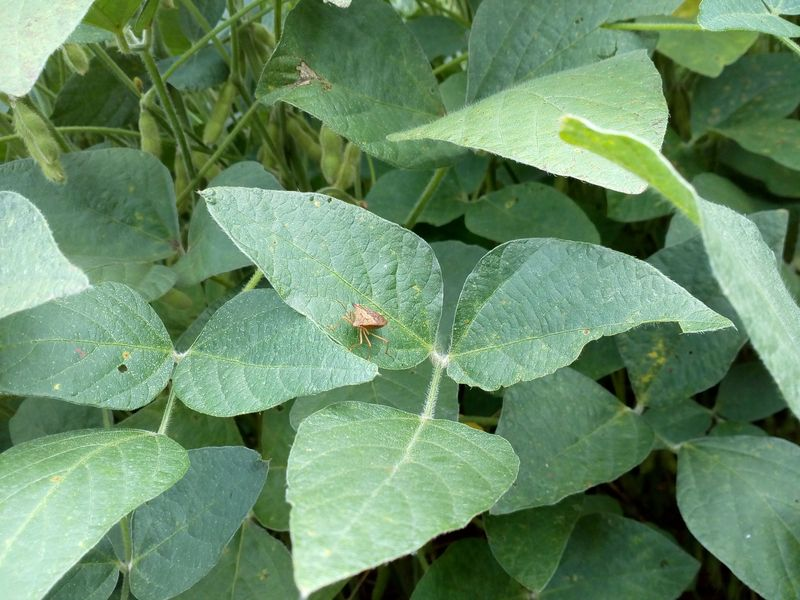Euschistus_heros_adulto: (328, 288, 397, 354)
